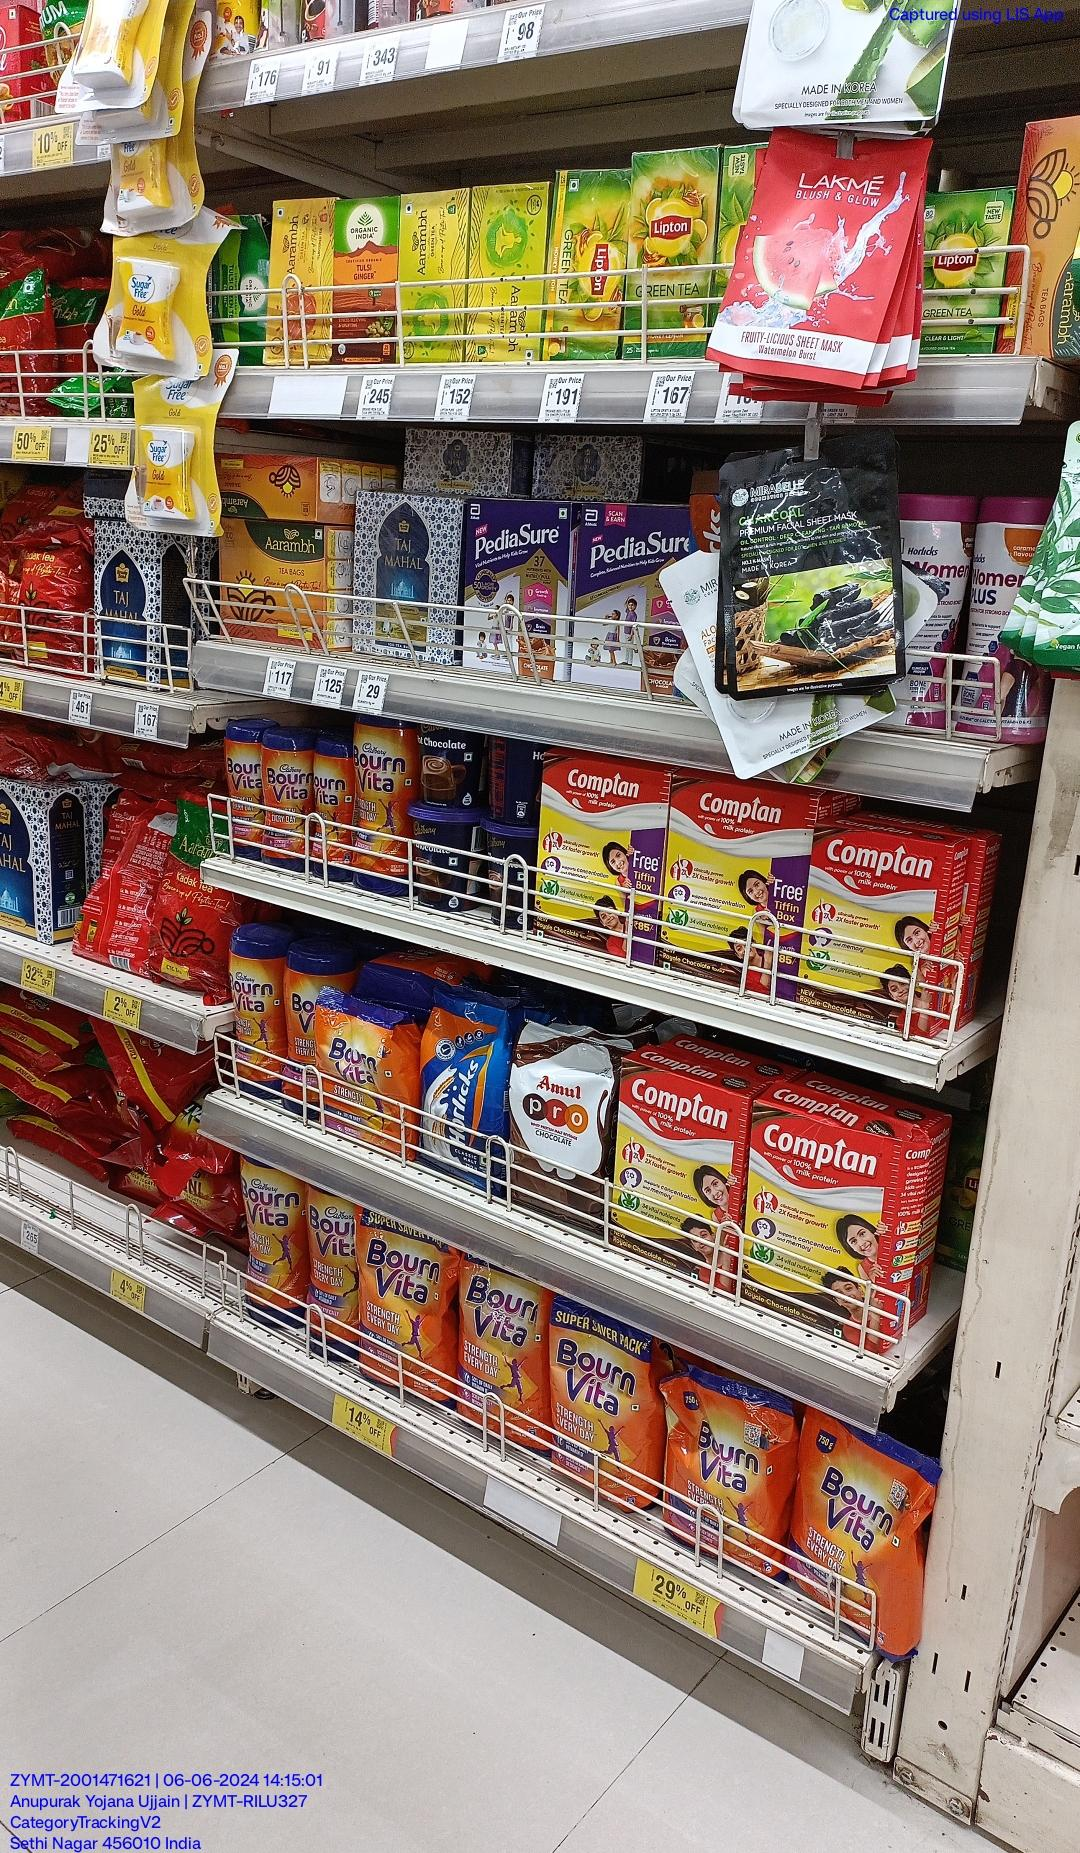PEDIASURE_CHOCOLATE_500_G_PACK: (575, 497, 693, 691), (463, 495, 570, 681)
